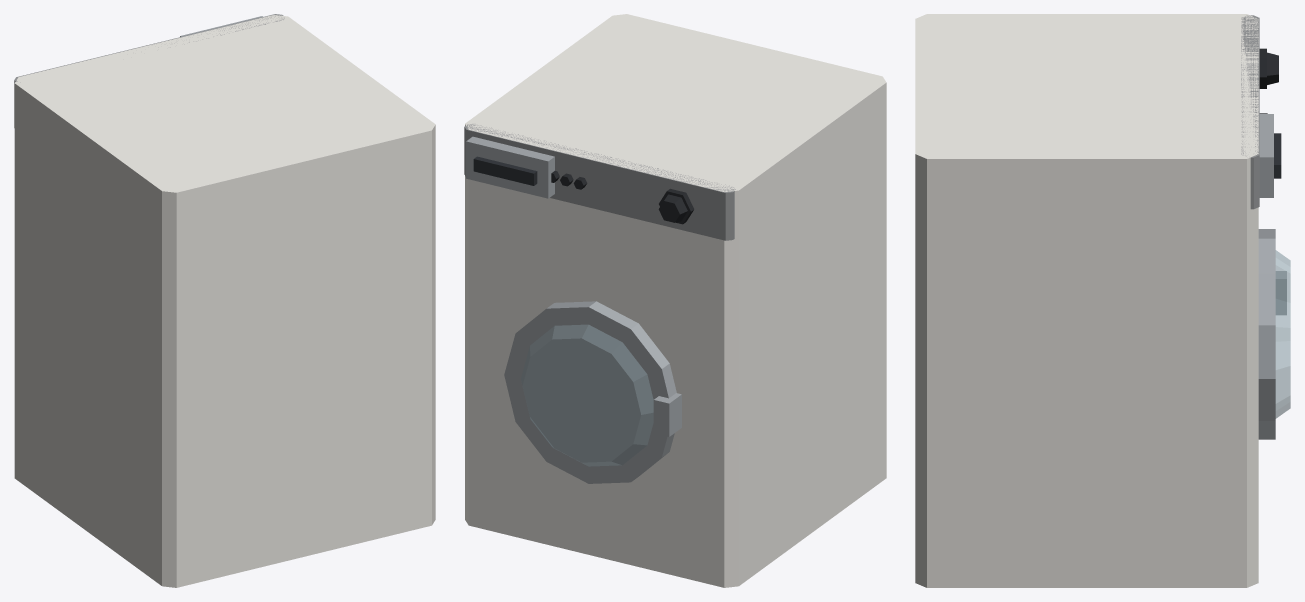
Rendered from SM_LPI_Appl_Washer_01.fbx.
3 views of the same model, side by side, from view 1: azimuth 30°, elevation 25°; view 2: azimuth 150°, elevation 25°; view 3: azimuth 270°, elevation 25° (orthographic). The views are drawn at different scales.
Visible parts, largest first — view 1: SM_LPI_Appl_Washer_01; view 2: SM_LPI_Appl_Washer_01; view 3: SM_LPI_Appl_Washer_01.
Part boxes in pixels (x1=…): SM_LPI_Appl_Washer_01: x1=14, y1=14, x2=435, y2=587; SM_LPI_Appl_Washer_01: x1=464, y1=14, x2=886, y2=587; SM_LPI_Appl_Washer_01: x1=915, y1=14, x2=1290, y2=587.
Bounding box in the file's own units: 0.6 × 0.85 × 0.656.
